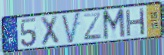5: (20, 17, 38, 49)
H: (125, 7, 146, 39)
M: (101, 7, 127, 42)
V: (60, 11, 82, 45)
X: (39, 14, 61, 48)
Z: (82, 11, 103, 41)
